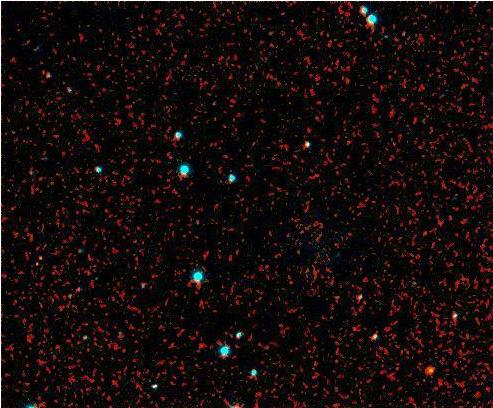star: (415, 354, 445, 384)
